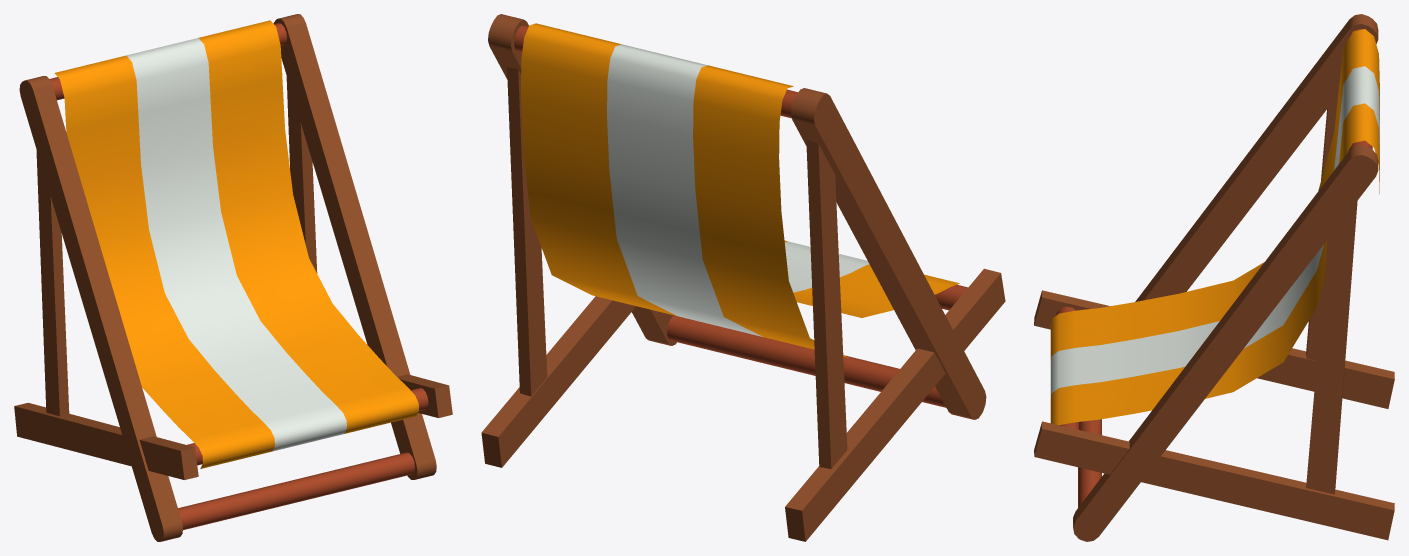
Rendered from beach-chair-01.glb.
3 renders of one model, left to right at view 1: azimuth 30°, elevation 25°; view 2: azimuth 150°, elevation 25°; view 3: azimuth 270°, elevation 25°, orthographic. The views are drawn at different scales.
Parts seen in each view (by area): view 1: beach chair 01; view 2: beach chair 01; view 3: beach chair 01.
Boxes of the visible parts, box(x1,y1,x2,y2) form: beach chair 01: box(14, 14, 452, 541); beach chair 01: box(481, 14, 1005, 541); beach chair 01: box(1034, 14, 1394, 541).
Bounding box in the file's own units: 0.7437 × 0.9526 × 0.8045.
1 material, 1 textured.
